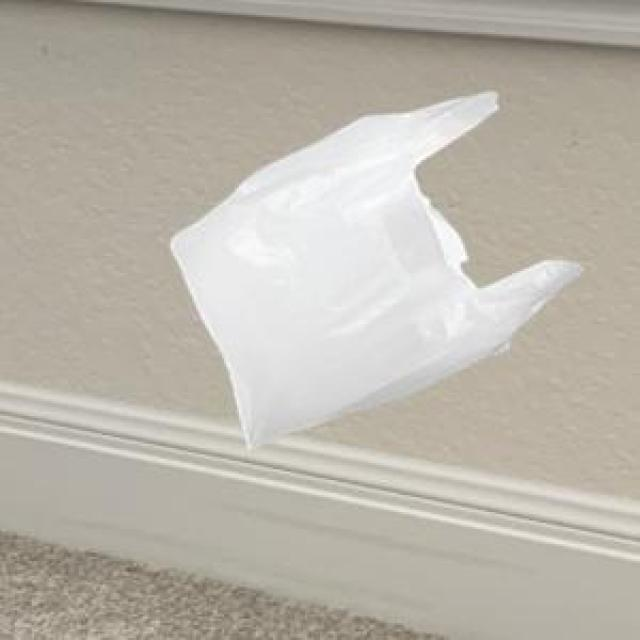waste: (173, 93, 578, 443)
